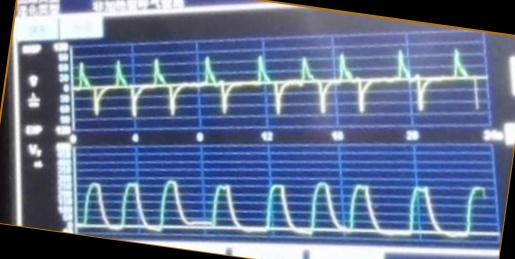Accumulation Flow: (75, 46, 483, 120)
Volume: (78, 174, 490, 238)
